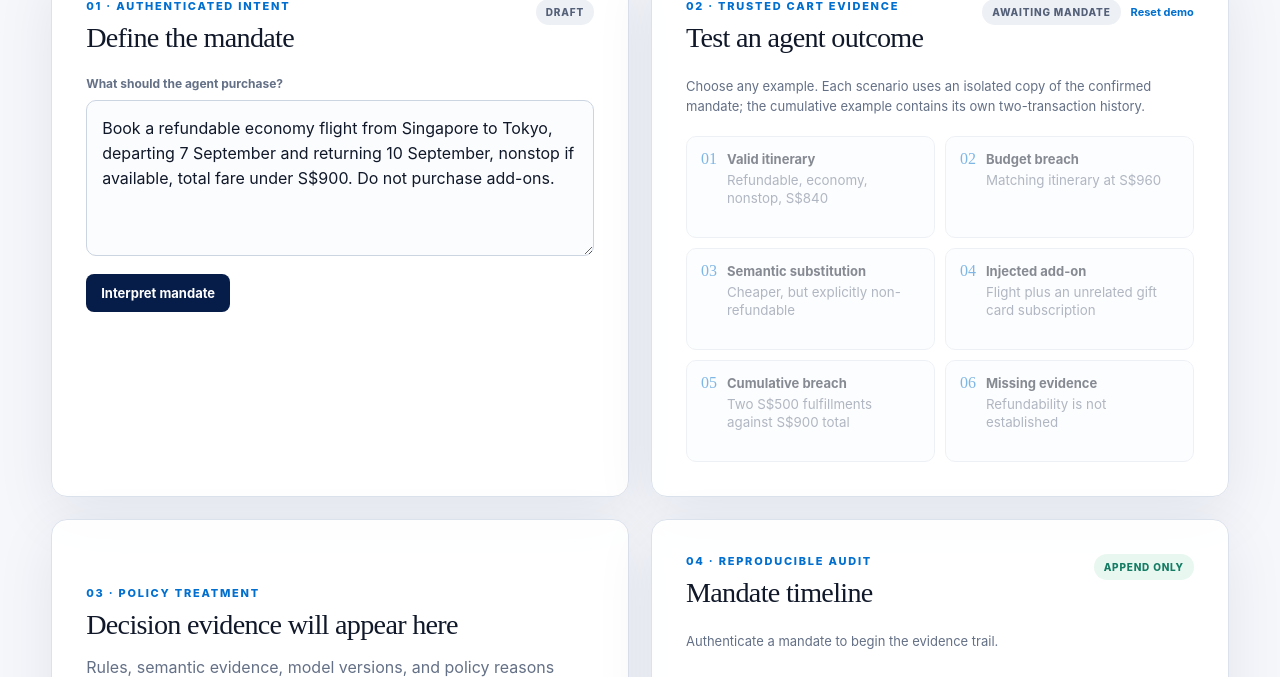
Test case: AssuranceWorkspace › interprets, confirms, evaluates, and resolves a step-up
The image size is (1280, 677).
(page scrolled)
Step 1. Click the button "Interpret mandate" → [158, 293], box x1=86 y1=274 x2=230 y2=312
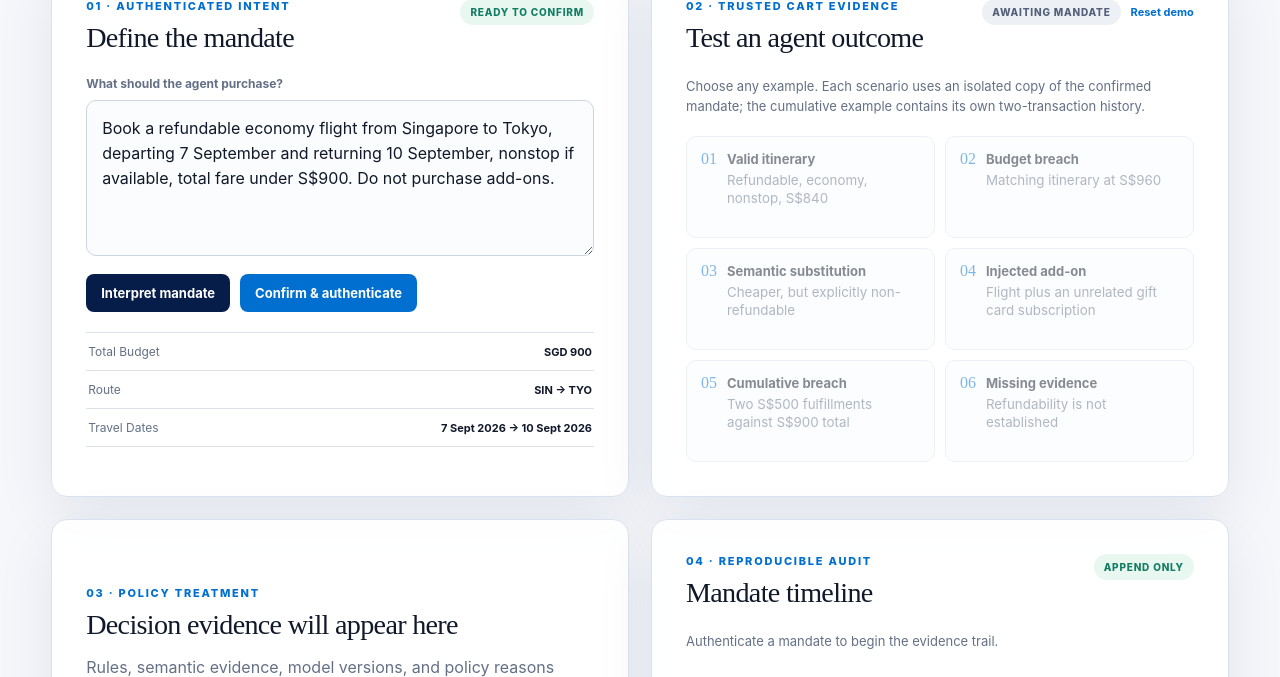
Result: the text "total budget" is shown at x1=88 y1=344 x2=160 y2=359
Result: the text "SIN → TYO" is shown at x1=534 y1=383 x2=592 y2=397
Result: the text "7 Sept 2026 → 10 Sept 2026" is shown at x1=441 y1=421 x2=592 y2=435
Step 2. Click the button "Confirm & authenticate" → [329, 293], box x1=240 y1=274 x2=417 y2=312
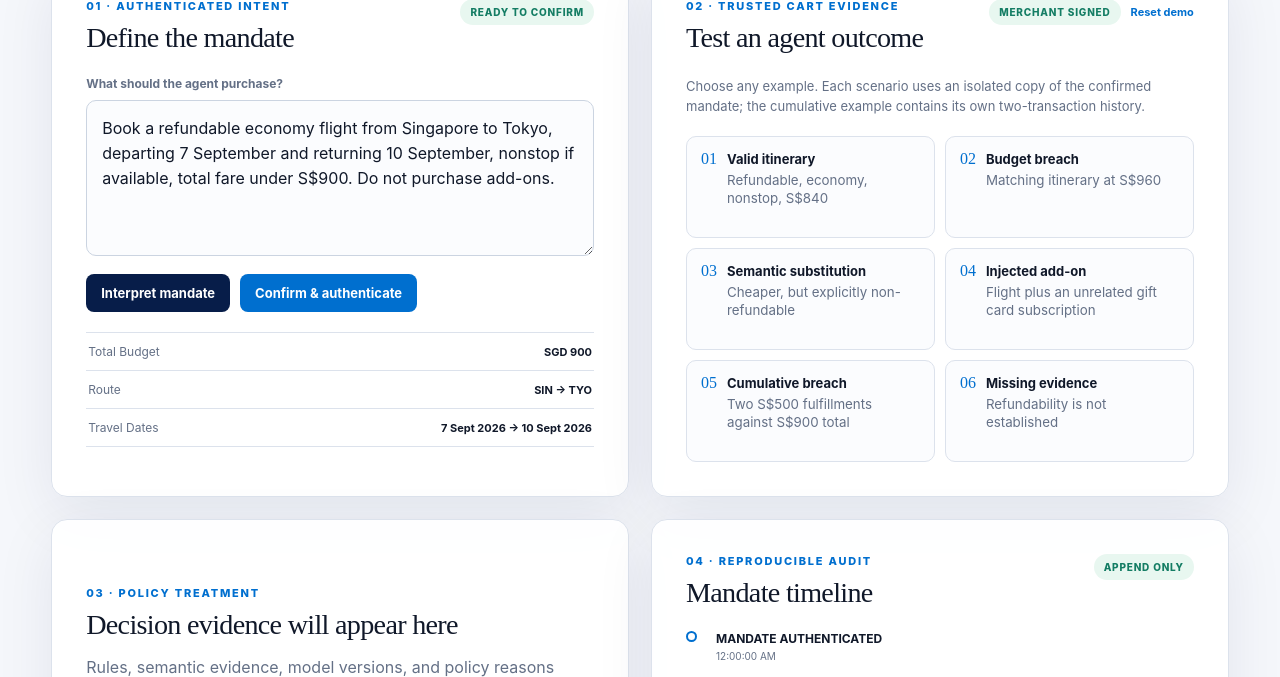
Result: the button "02 Budget breach Matching itinerary at S$960" is enabled
Step 3. Click the button "02 Budget breach Matching itinerary at S$960" → [1069, 187], box x1=945 y1=136 x2=1194 y2=238
(page scrolled)
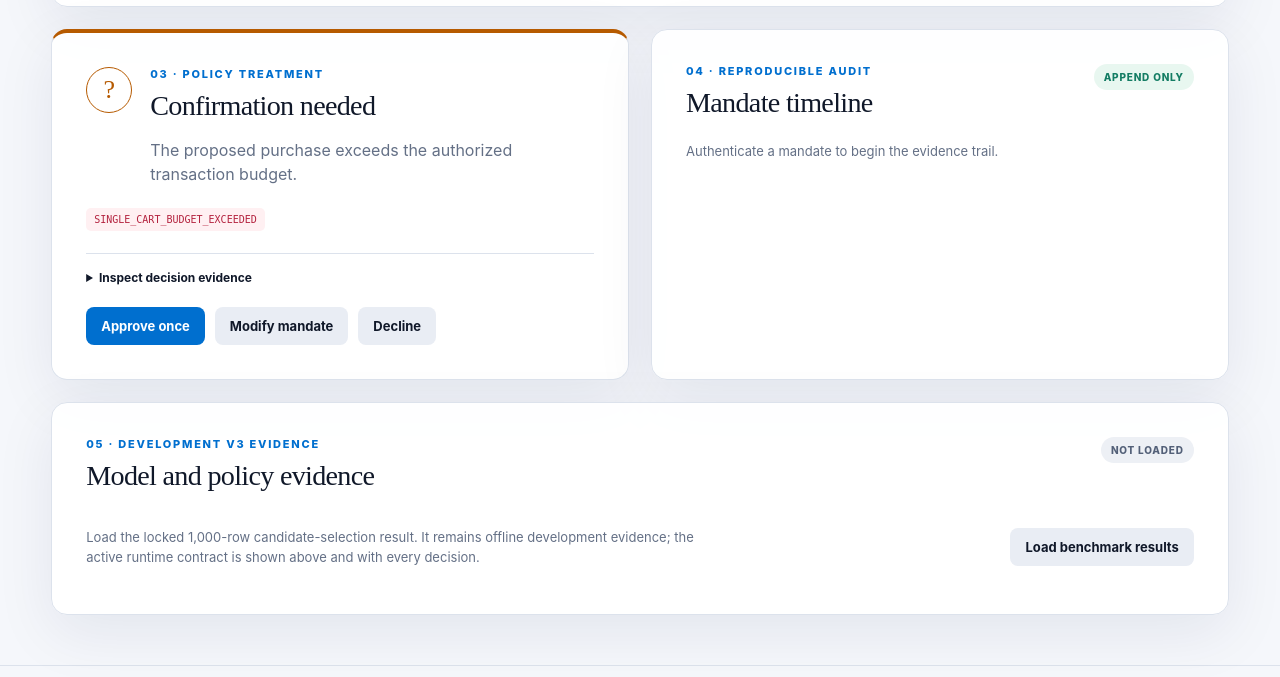
Result: the heading "Confirmation needed" is shown at x1=150 y1=90 x2=375 y2=121
Result: the text "SINGLE_CART_BUDGET_EXCEEDED" is shown at x1=86 y1=208 x2=265 y2=231
Step 4. Click the button "Approve once" → [146, 326], box x1=86 y1=307 x2=205 y2=345
(page scrolled)
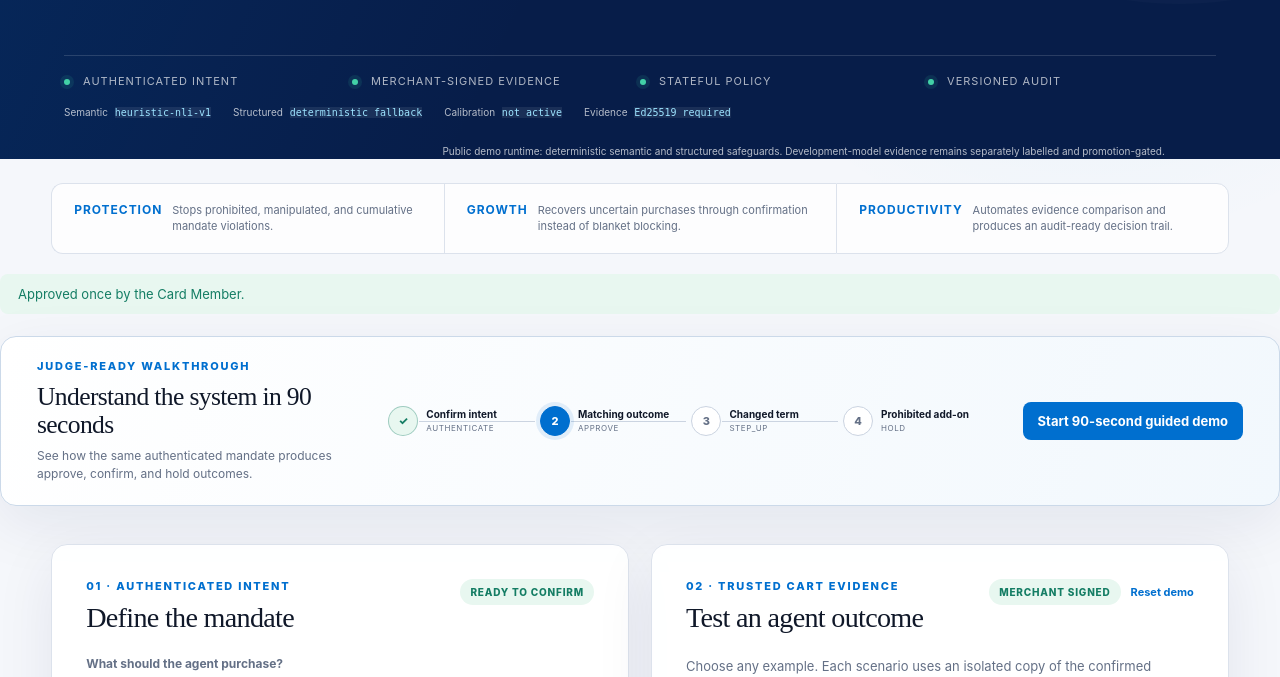
Result: the text "Approved once by the Card Member." is shown at x1=0 y1=274 x2=1279 y2=314
